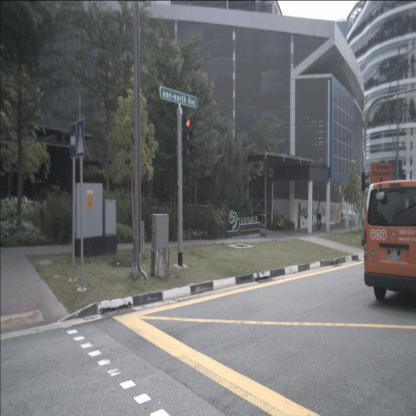human-pedestrian-adult: (316, 200, 323, 232)
vehicle-bicycle: (273, 209, 286, 232)
vehicle-car: (363, 179, 416, 303)
